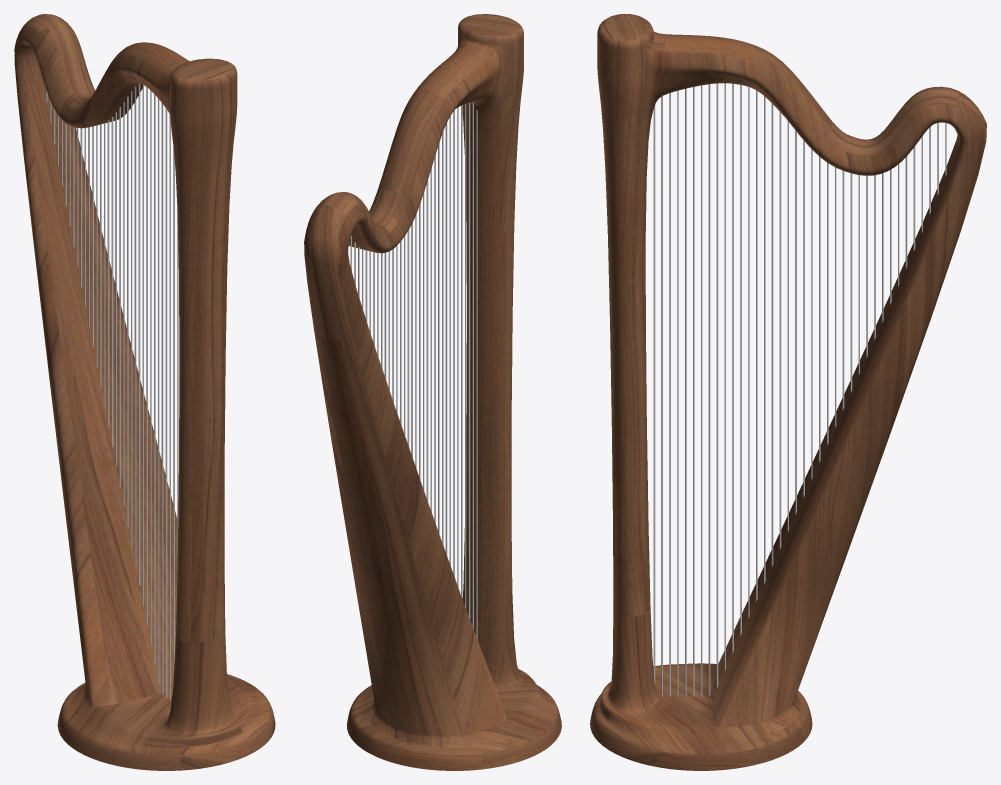
The model's file is Konzerthafeweapon.fbx.
3 views of the same model, side by side, from view 1: azimuth 30°, elevation 25°; view 2: azimuth 150°, elevation 25°; view 3: azimuth 270°, elevation 25° (orthographic). The views are drawn at different scales.
Parts seen in each view (by area): view 1: Circle, Circle.001; view 2: Circle, Circle.001; view 3: Circle, Circle.001.
Part boxes in pixels (x1=…): Circle: x1=14, y1=14, x2=275, y2=770; Circle.001: x1=46, y1=84, x2=178, y2=700; Circle: x1=304, y1=14, x2=561, y2=770; Circle.001: x1=348, y1=102, x2=477, y2=639; Circle: x1=590, y1=14, x2=986, y2=770; Circle.001: x1=653, y1=83, x2=946, y2=696.
Bounding box in the file's own units: 135 × 466 × 240.
